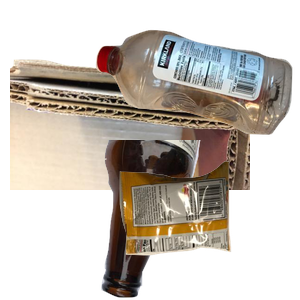cardboard: (10, 57, 250, 237)
glass: (99, 140, 300, 300)
plastic: (93, 27, 300, 154)
trash: (117, 159, 300, 300)
